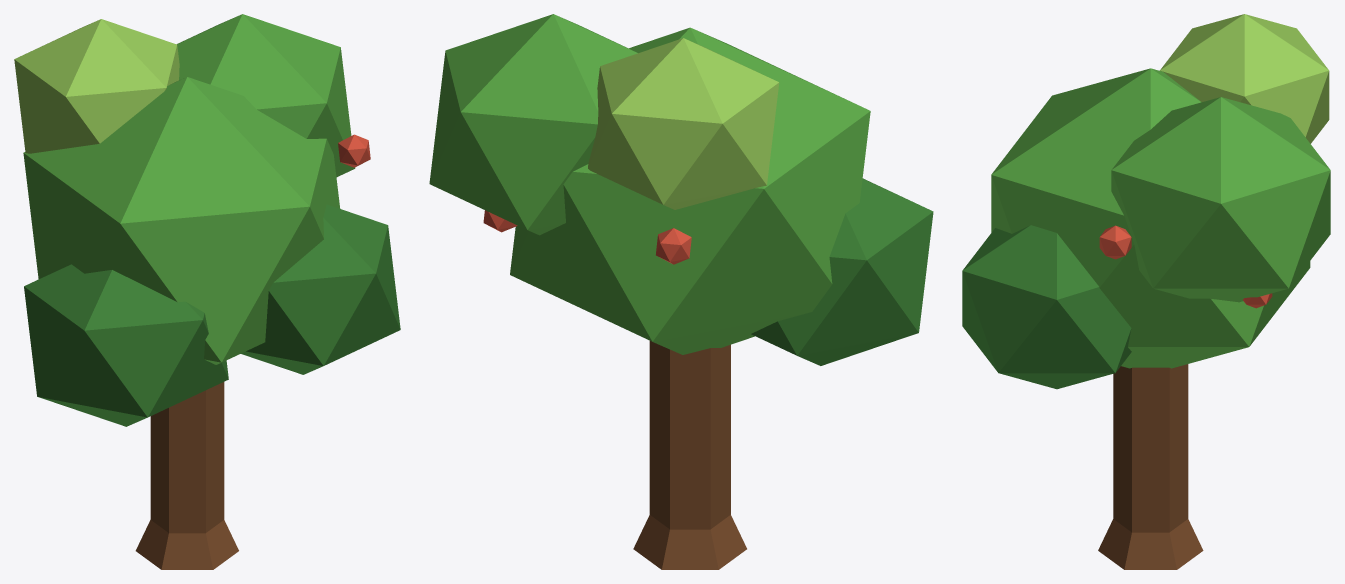
File: tree_round.fbx
The picture shows the model from 3 angles, left to right: view 1: azimuth 30°, elevation 25°; view 2: azimuth 150°, elevation 25°; view 3: azimuth 270°, elevation 25°; orthographic projection. The views are drawn at different scales.
Parts seen in each view (by area): view 1: tree_round; view 2: tree_round; view 3: tree_round.
Boxes of the visible parts, bbox=[...] form: tree_round: bbox=[14, 14, 400, 569]; tree_round: bbox=[429, 14, 933, 569]; tree_round: bbox=[962, 14, 1330, 569].
Size of the model in its own units: 0.3678 by 0.4865 by 0.3144.
